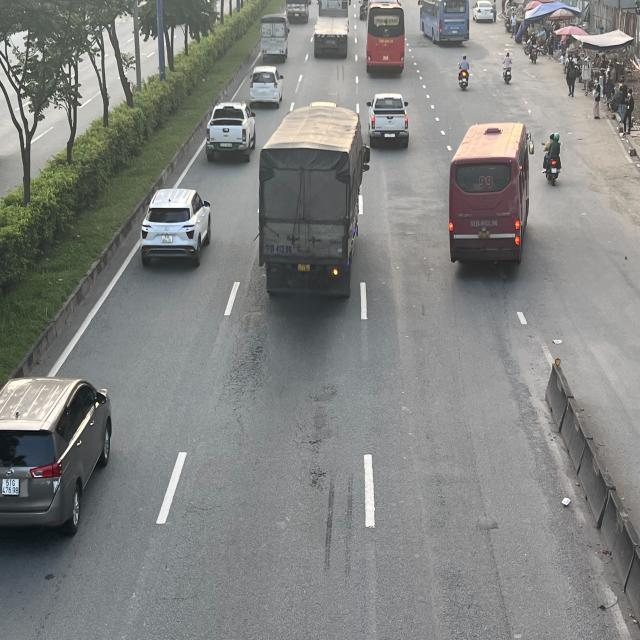car: (0, 376, 113, 533), (140, 186, 213, 268), (206, 100, 257, 160), (367, 90, 410, 148), (249, 64, 284, 108)
coach: (449, 122, 534, 271), (366, 4, 406, 71), (419, 0, 470, 43)
container: (313, 0, 349, 58)
truck: (258, 100, 370, 298), (258, 16, 290, 60)
